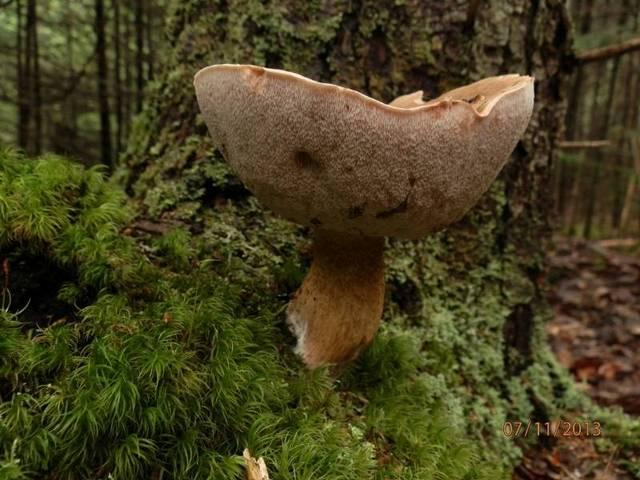poisonous_mushroom: (191, 61, 536, 374)
